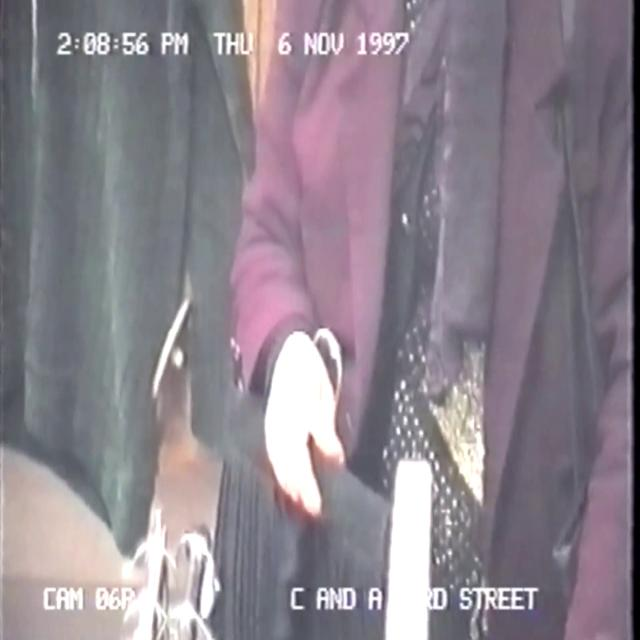Product: (218, 391, 383, 640)
shoplifting: (178, 0, 636, 640)
